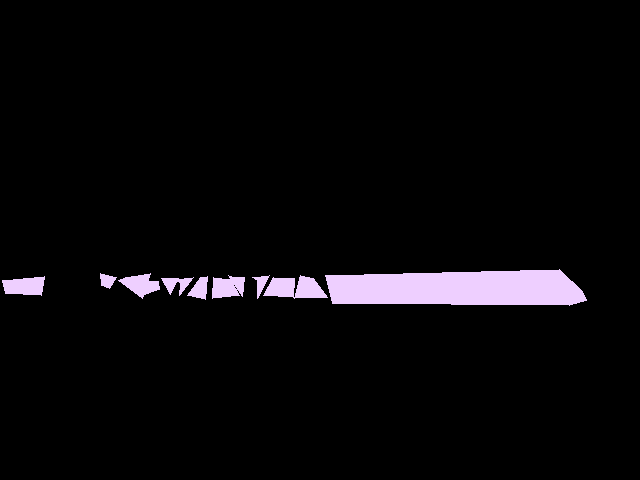Train: (2, 269, 587, 306)
